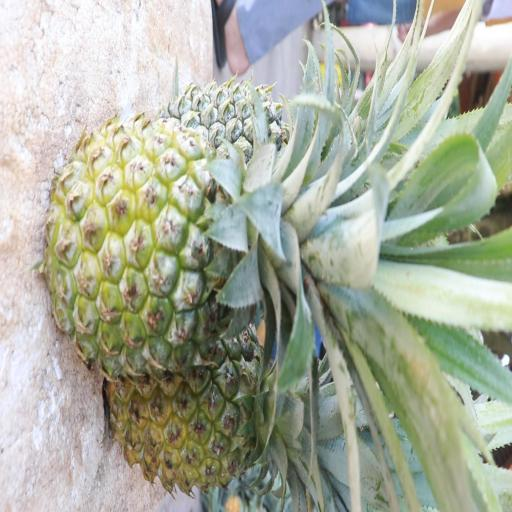------------------------------: (51, 108, 360, 376)
Pineapple - v8 v1: (114, 336, 359, 494)
